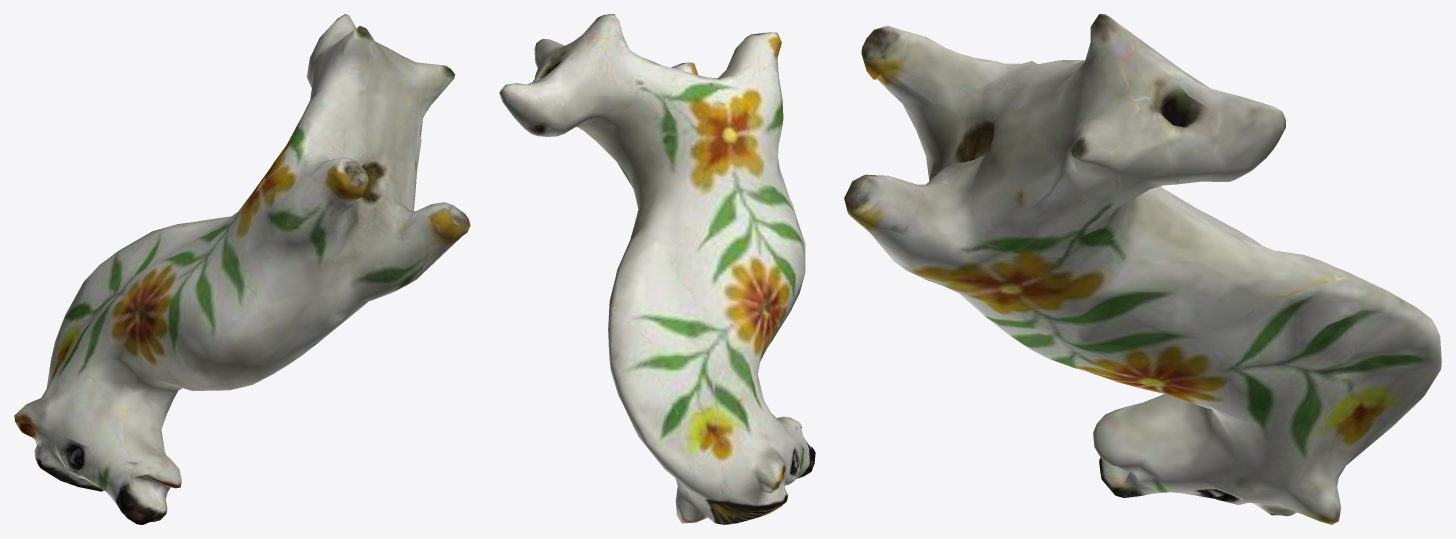
Rendered from hall.glb.
The picture shows the model from 3 angles, left to right: view 1: azimuth 30°, elevation 25°; view 2: azimuth 150°, elevation 25°; view 3: azimuth 270°, elevation 25°; orthographic projection. The views are drawn at different scales.
Bounding box in the file's own units: 0.5984 × 0.7443 × 0.6432.
Materials: 1 (1 with a texture image).
